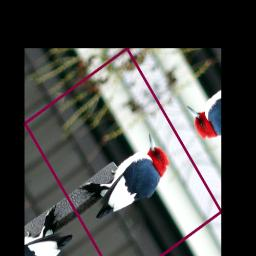Woodpecker: (75, 128, 181, 234)
